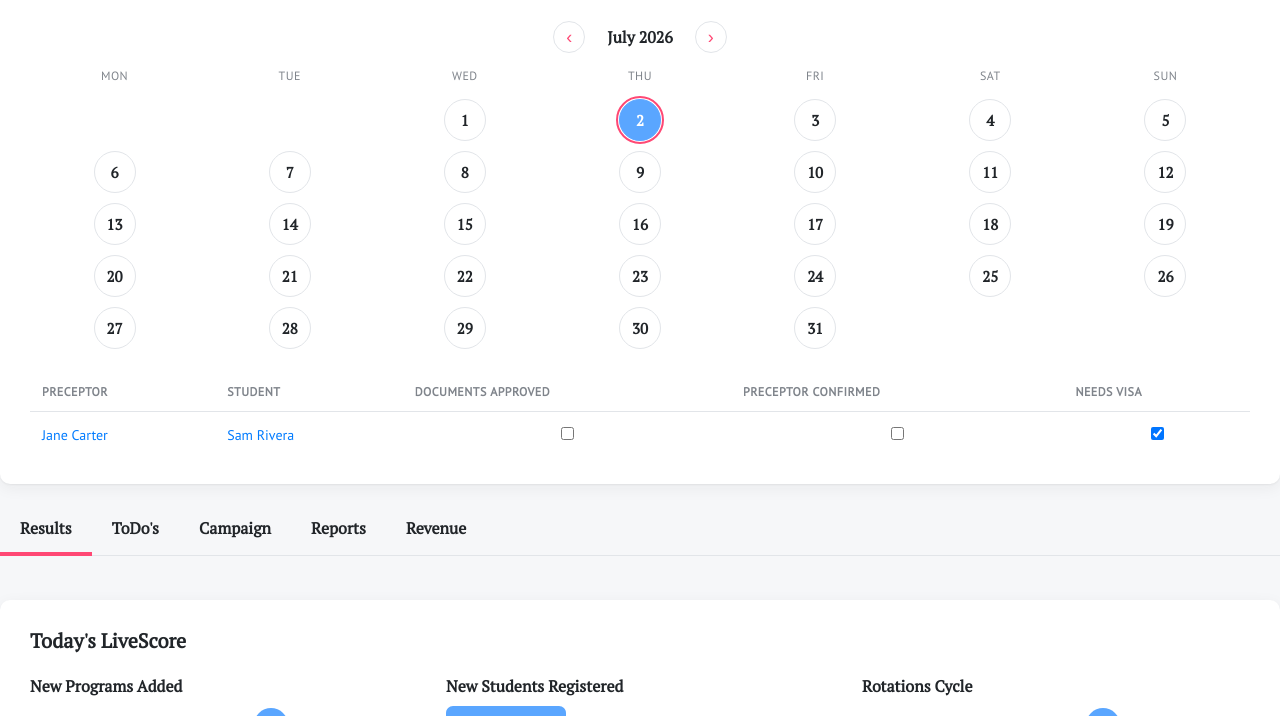
Test case: DashboardPage › switches to the Campaign tab and renders its panel
This screenshot has width=1280, height=716.
expect the heading "Today's LiveScore" is shown: met, box left=30, top=627, right=186, bottom=654
Click the tab "Campaign": (235, 528) left=199, top=517, right=271, bottom=539
(page scrolled)
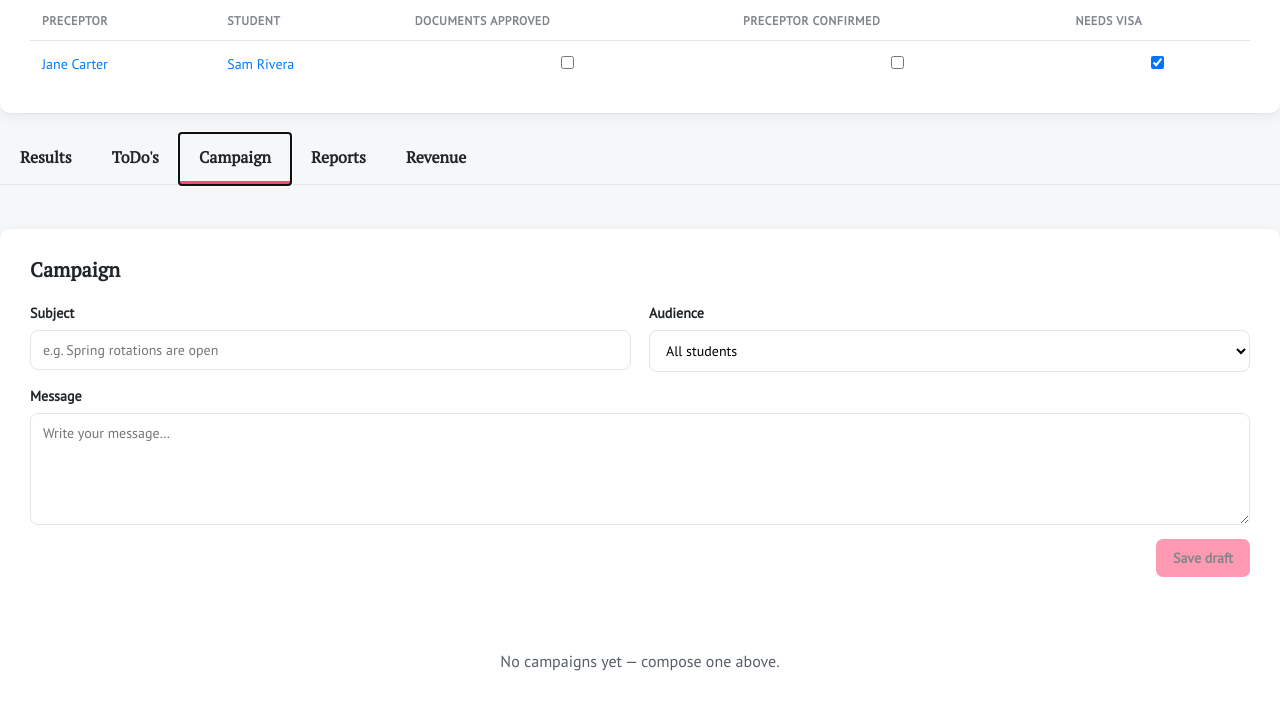
expect the button "Save draft" is shown: met, box left=1156, top=539, right=1250, bottom=577
expect the heading "Today's LiveScore" is gone: met
